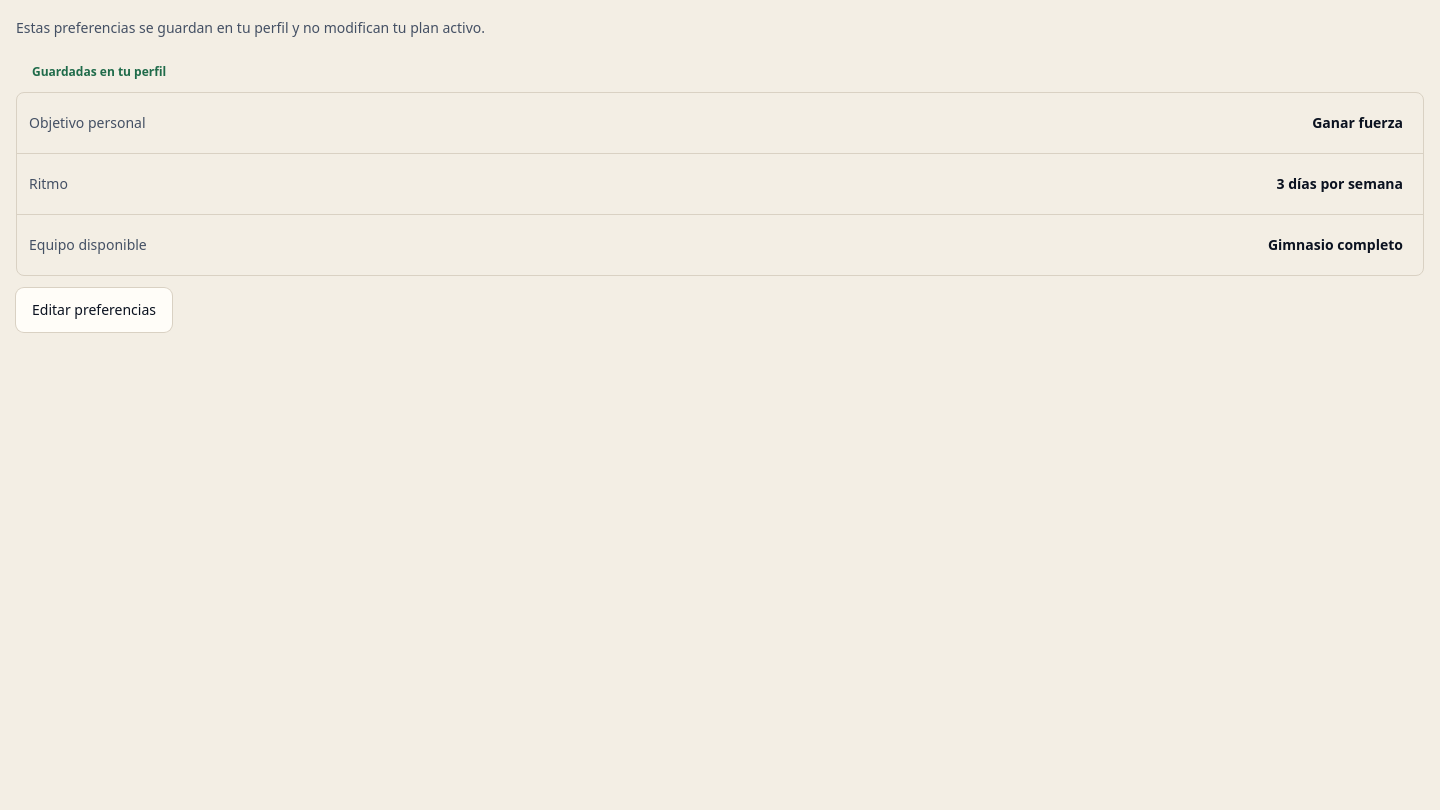
Test: ProfileCoachContext › opens the persisted preference editor from personal goal and equipment controls
Click the button with aria-label "Editar objetivo personal" at [1358, 123], box [1304,101,1411,145]
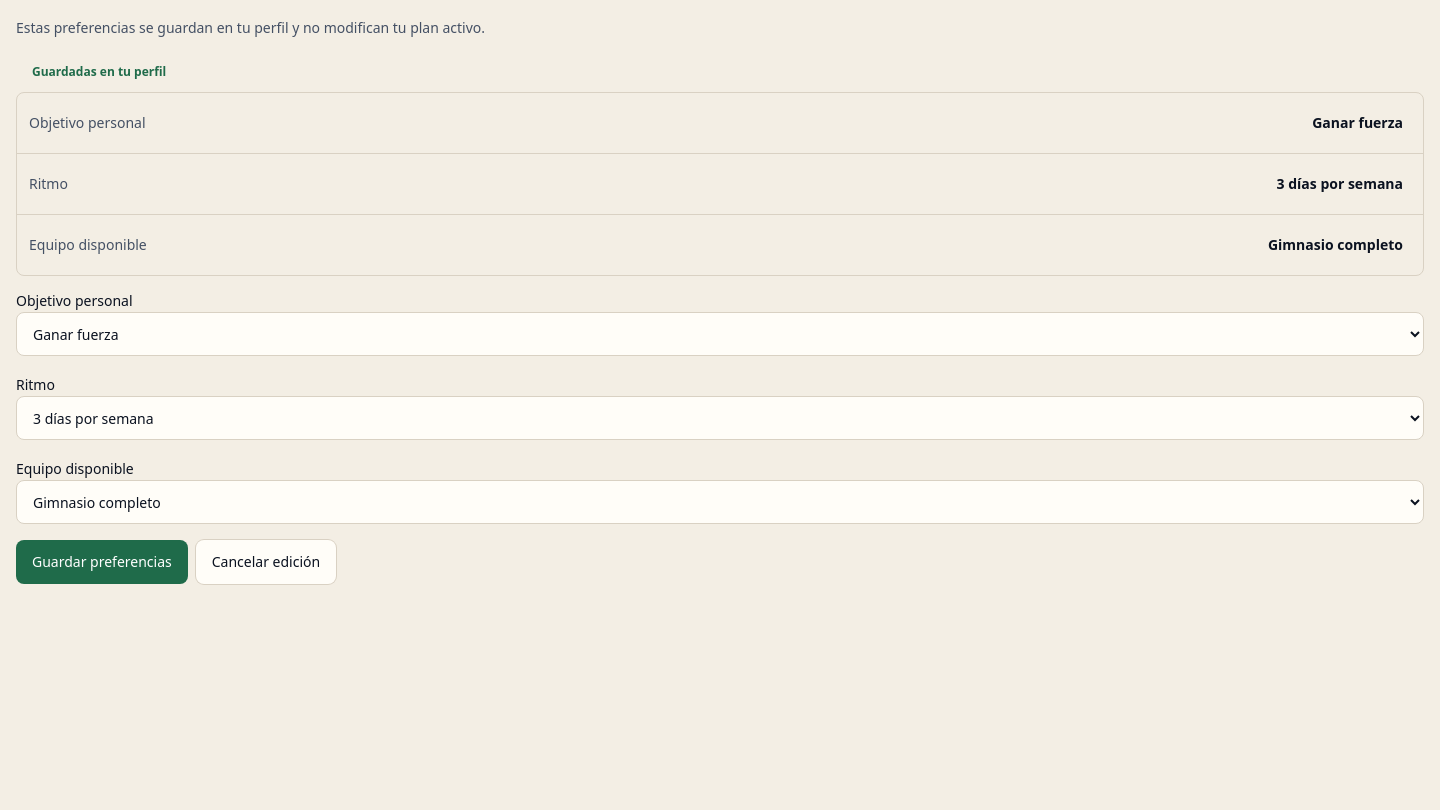
Now the dropdown labelled "Objetivo personal" shows "Ganar fuerza", box [16,312,1424,356]
Now the dropdown labelled "Ritmo" shows "3 días por semana", box [16,396,1424,440]
Now the dropdown labelled "Equipo disponible" shows "Gimnasio completo", box [16,480,1424,524]
Click the button "Cancelar edición" at [266, 562], box [196,540,336,584]
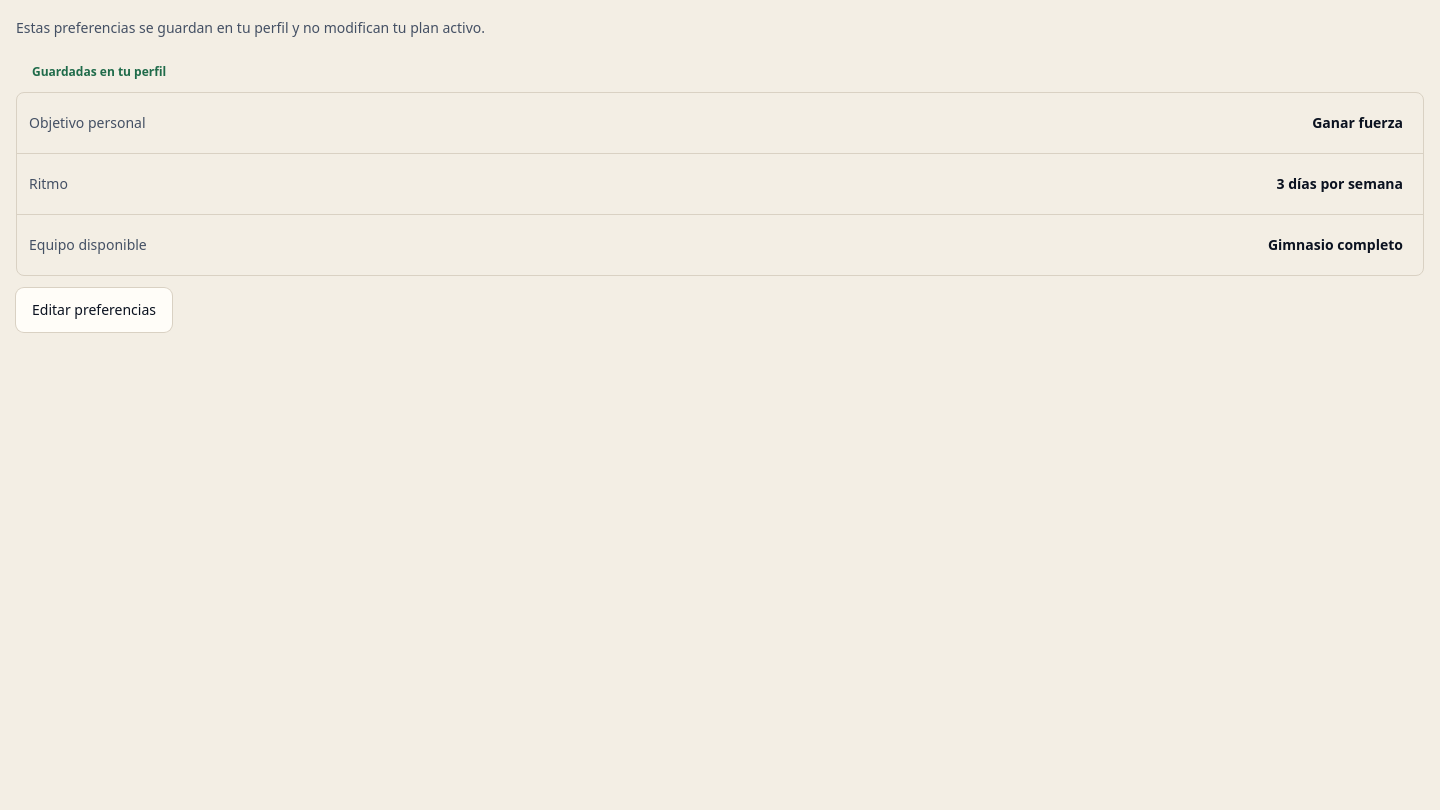
Click the button with aria-label "Editar equipo disponible" at [1335, 245], box [1260,223,1411,267]
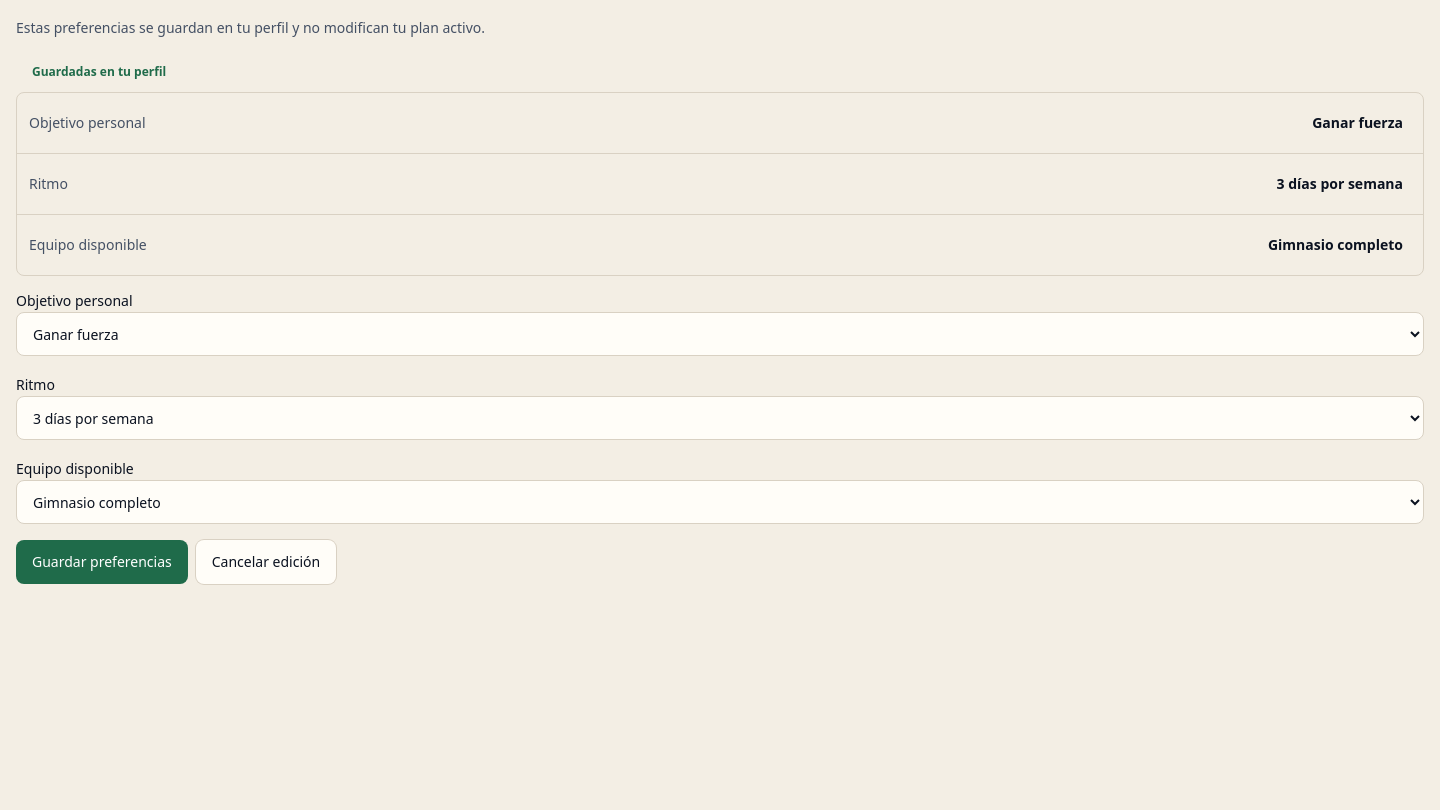
Now the dropdown labelled "Objetivo personal" shows "Ganar fuerza", box [16,312,1424,356]
Now the dropdown labelled "Equipo disponible" shows "Gimnasio completo", box [16,480,1424,524]
